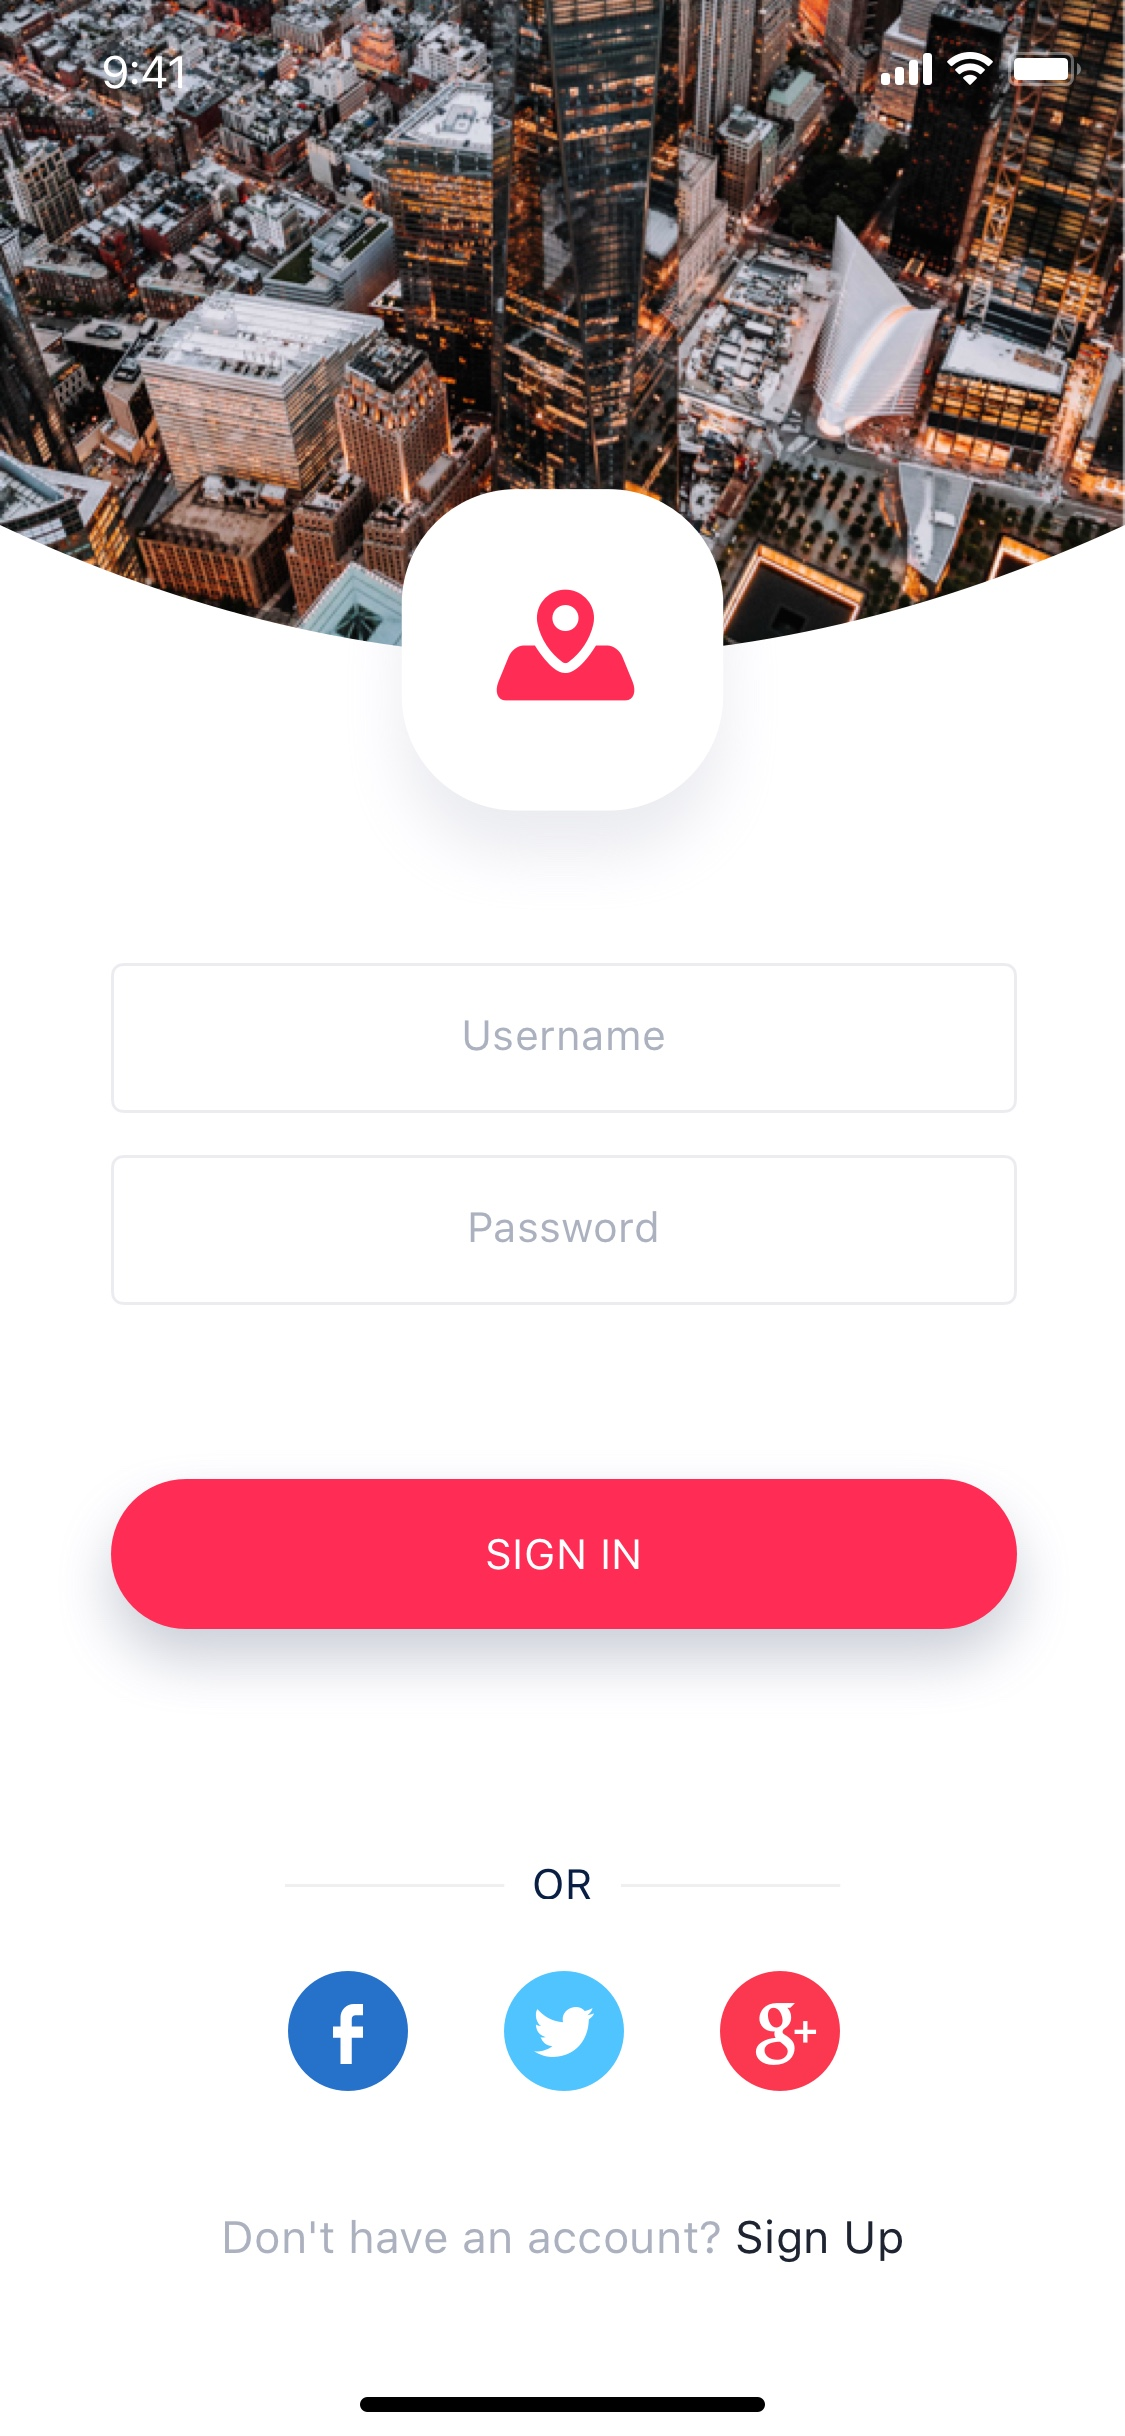EditText: (110, 1154, 1018, 1307), (110, 963, 1018, 1114)
Icon: (287, 1970, 409, 2093), (503, 1970, 625, 2093), (719, 1970, 841, 2093)
Image: (2, 2, 1125, 646), (402, 489, 724, 813)
Text: (225, 2218, 903, 2264), (469, 1210, 657, 1244), (465, 1021, 665, 1052), (535, 1867, 592, 1900)
TextButton: (110, 1477, 1018, 1630)
UpperTaskBar: (104, 51, 1083, 92)
